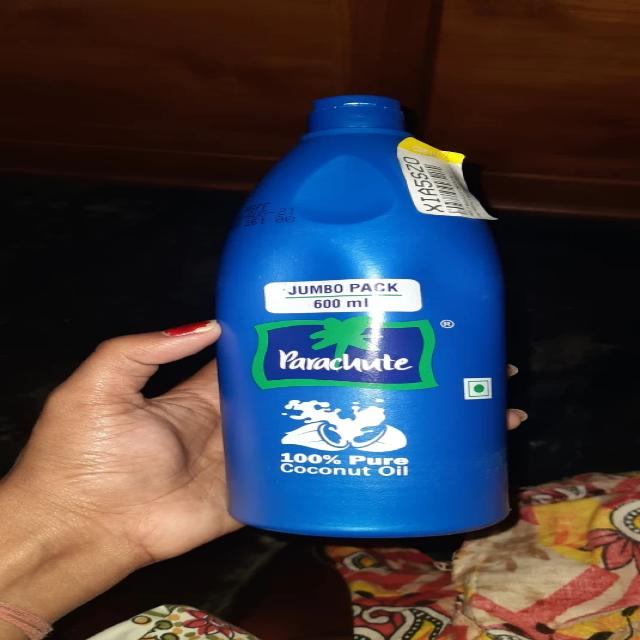parachute_oil: (207, 89, 537, 542)
